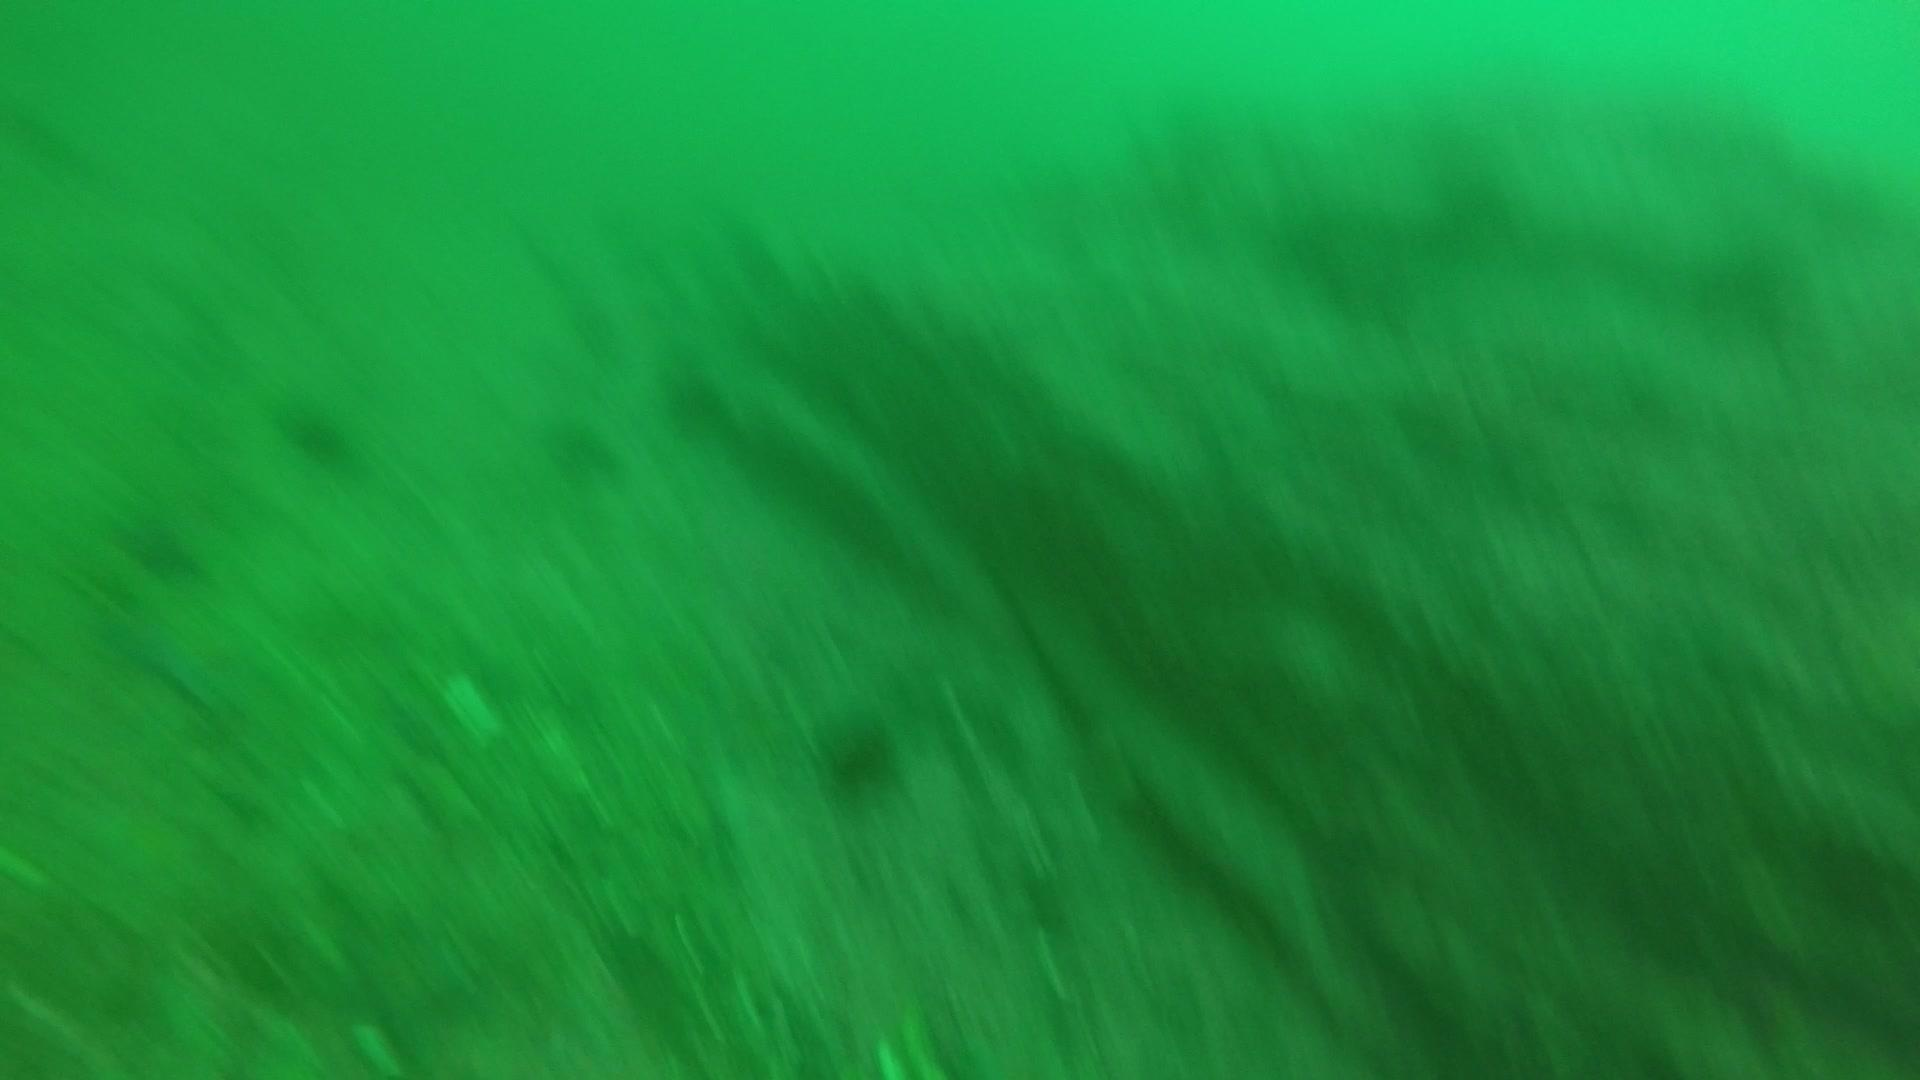echinus: (812, 709, 907, 804), (276, 393, 363, 473), (539, 411, 622, 485), (658, 363, 732, 439)
